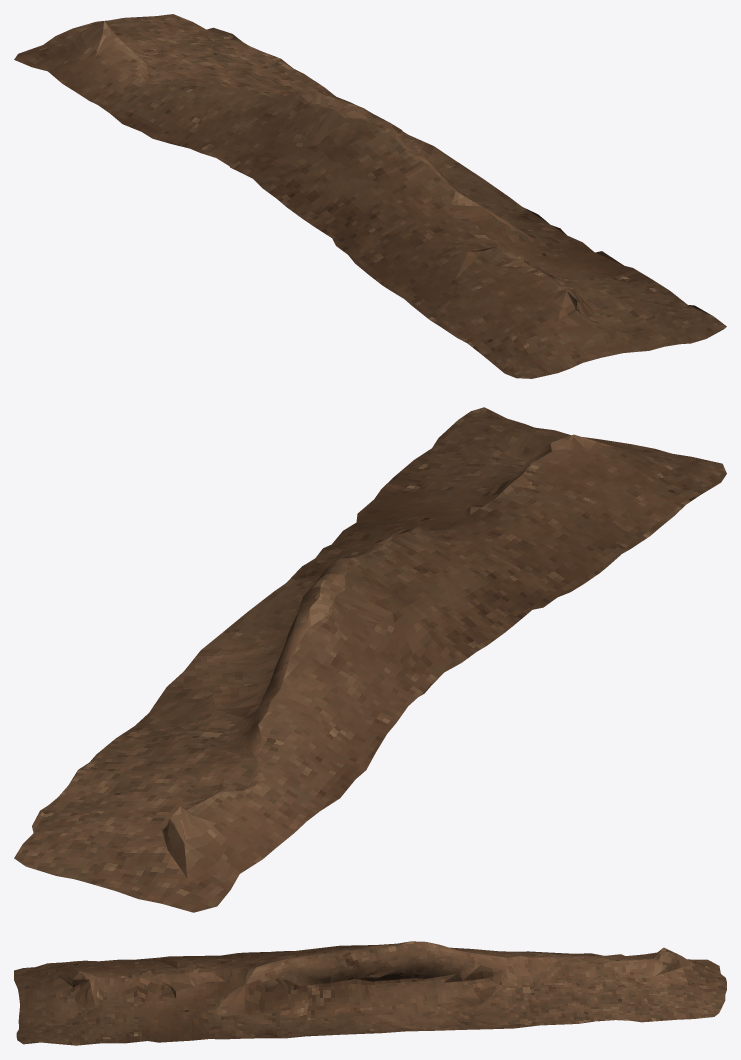
Rendered from single_root.glb.
3 views of the same model, one above another, from view 1: azimuth 30°, elevation 25°; view 2: azimuth 150°, elevation 25°; view 3: azimuth 270°, elevation 25° (orthographic). The views are drawn at different scales.
Visible parts, largest first — view 1: single_root; view 2: single_root; view 3: single_root.
Part boxes in pixels (x1,y1,x2,y2): single_root: (14, 14, 726, 378); single_root: (14, 407, 726, 912); single_root: (14, 941, 726, 1045).
Size of the model in its own units: 0.5551 by 0.1761 by 1.83.
Materials: 1 (1 with a texture image).
